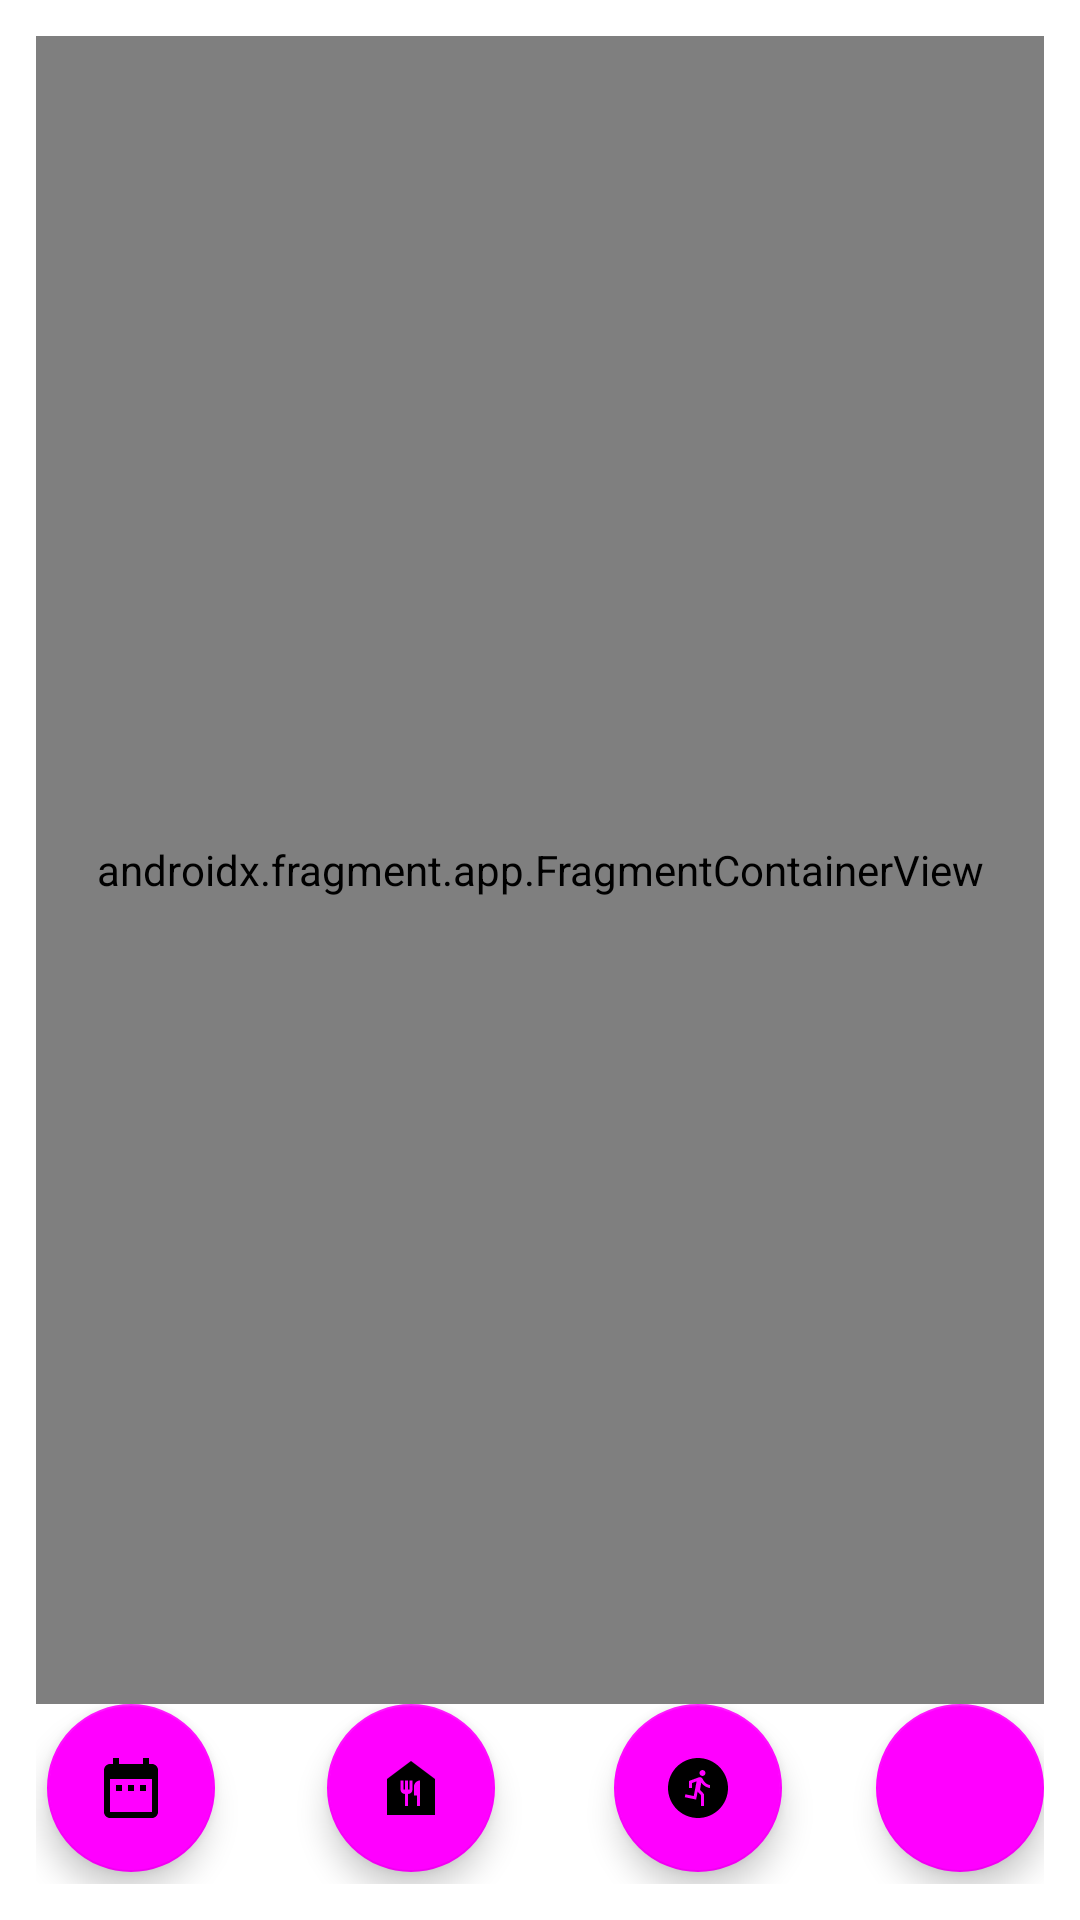

Locate icon controls on the screen. Image size 1080×1920, boxes as (x1, y1, x2, y2).
date range: (47, 1704, 215, 1872)
food bank: (327, 1704, 495, 1872)
run circle: (614, 1704, 782, 1872)
